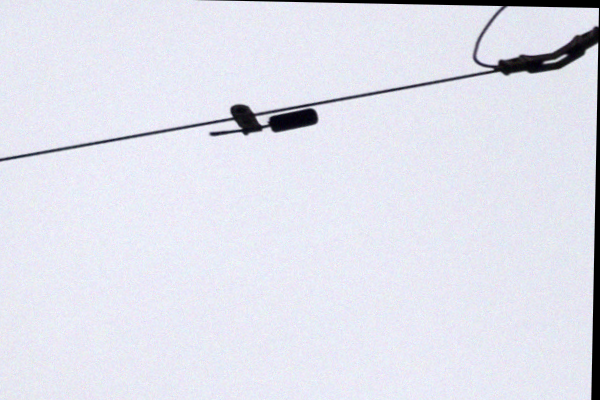damper_defect: (195, 100, 321, 145)
